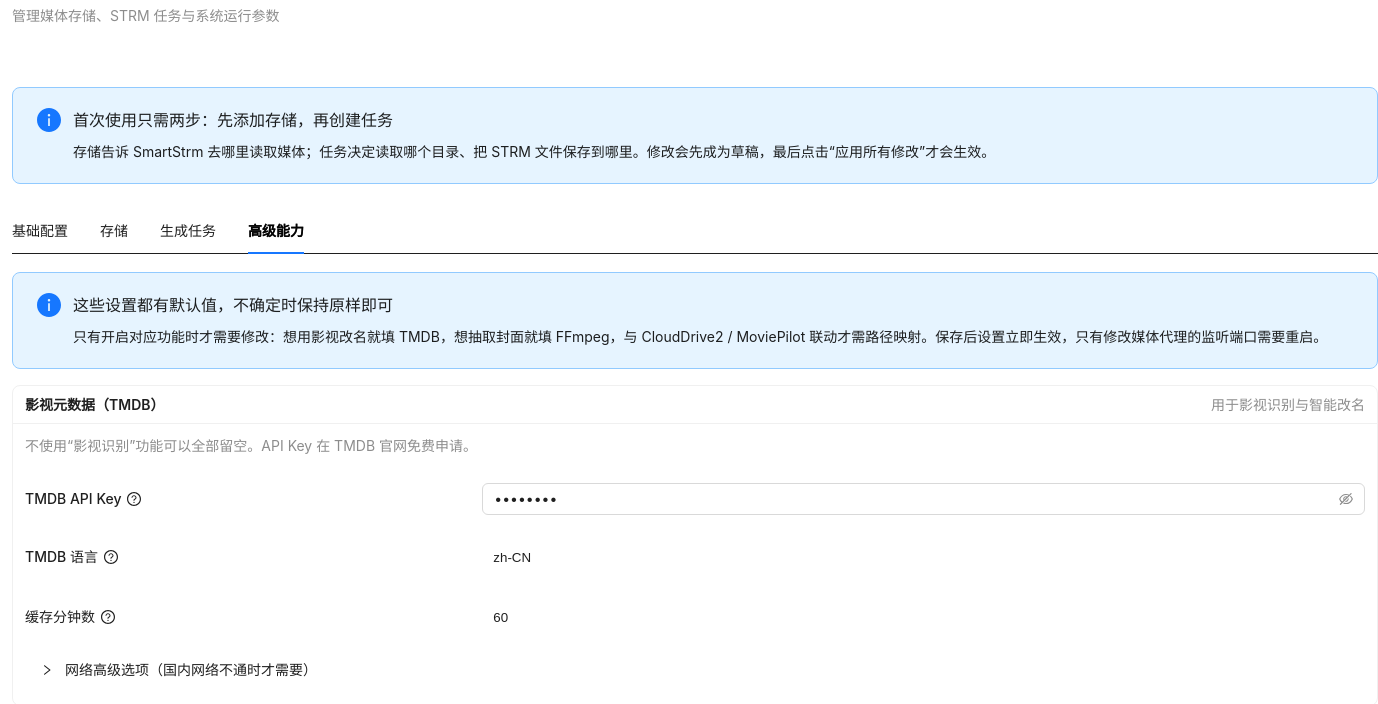
it: TMDB 网络选项收进折叠区，展开后可编辑
The width and height of the screenshot is (1378, 704).
Check: the password field labelled "TMDB API Key" is shown, box [494, 488, 1335, 510]
Check: the field labelled "TMDB API 地址" is not shown
Click the button "网络高级选项（国内网络不通时才需要）" at (179, 670), box [41, 661, 317, 678]
(page scrolled)
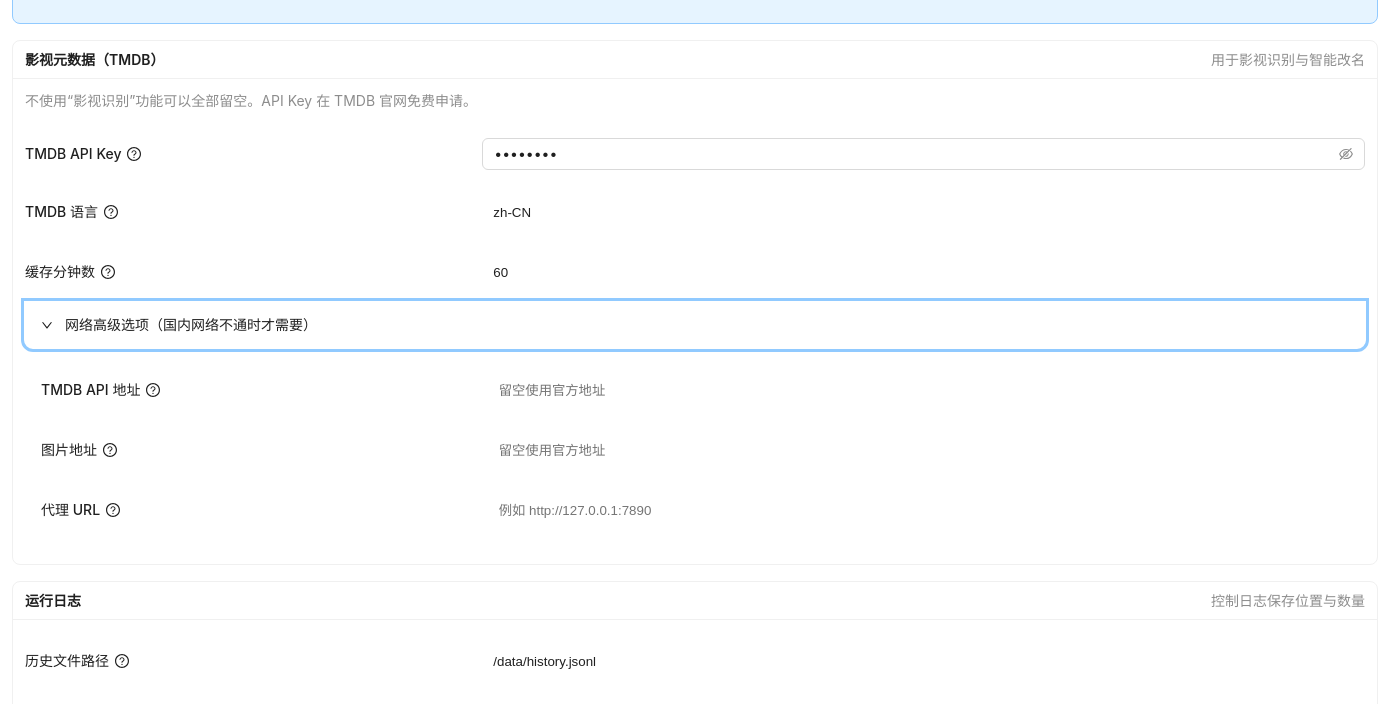
Check: the field labelled "TMDB API 地址" is shown, box [488, 372, 1349, 408]
Check: the field labelled "图片地址" is shown, box [488, 432, 1349, 468]
Check: the field labelled "代理 URL" is shown, box [488, 492, 1349, 528]
